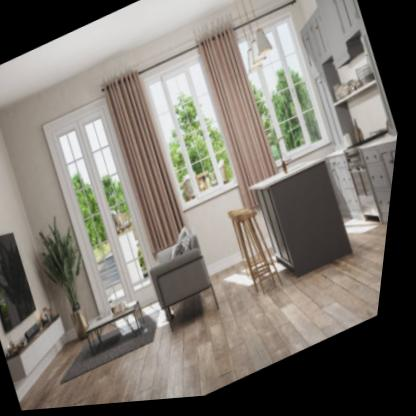Curtains: (104, 71, 194, 271), (199, 28, 283, 211)
Window: (26, 93, 185, 331), (132, 50, 256, 218), (227, 13, 343, 169)
Wooden floor: (28, 232, 393, 412)
